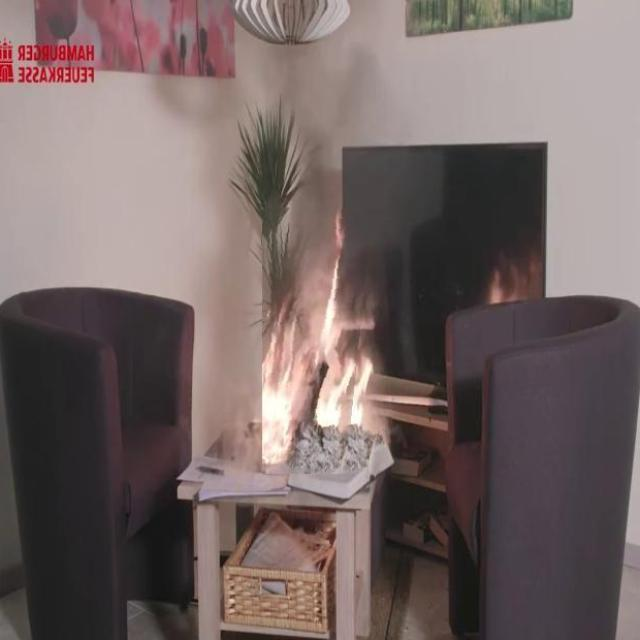fire: (286, 0, 375, 277)
smoke: (311, 202, 374, 433), (260, 296, 306, 467)
